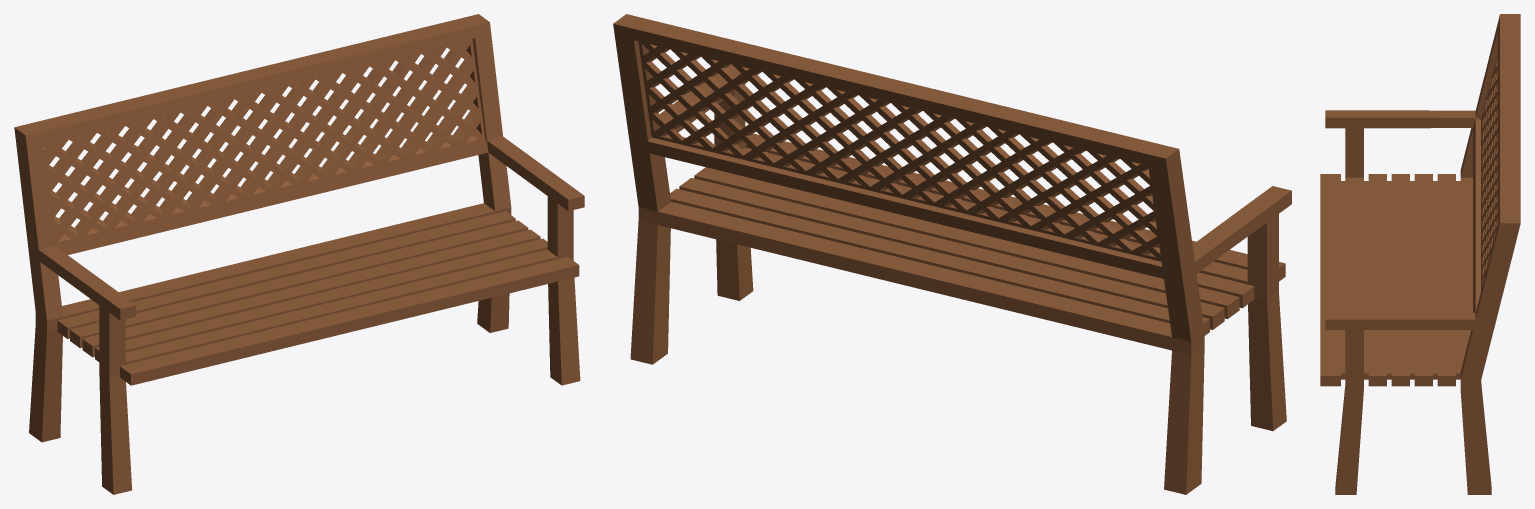
The model's file is bench.fbx.
3 renders of one model, left to right at view 1: azimuth 30°, elevation 25°; view 2: azimuth 150°, elevation 25°; view 3: azimuth 270°, elevation 25°, orthographic. The views are drawn at different scales.
Parts seen in each view (by area): view 1: Cube; view 2: Cube; view 3: Cube.
Boxes of the visible parts, x1,y1,x2,y2 form: Cube: [14, 14, 584, 494]; Cube: [613, 14, 1291, 494]; Cube: [1320, 14, 1520, 494].
Bounding box in the file's own units: 865 × 520 × 349.
